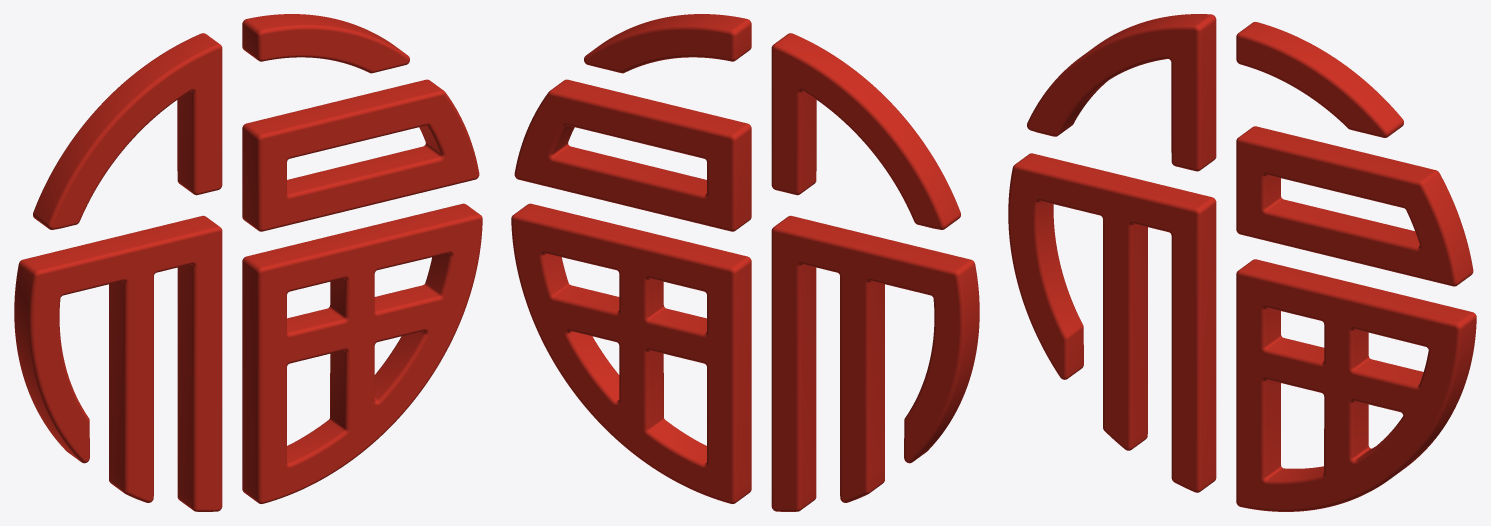
File: fu-trazo.glb
3 views of the same model, side by side, from view 1: azimuth 30°, elevation 25°; view 2: azimuth 150°, elevation 25°; view 3: azimuth 330°, elevation 25° (orthographic).
Parts seen in each view (by area): view 1: geometry_0; view 2: geometry_0; view 3: geometry_0.
Part boxes in pixels (box(x1,y1,x2,y2)): geometry_0: box(14, 14, 482, 511); geometry_0: box(511, 14, 979, 511); geometry_0: box(1008, 14, 1476, 511).
Bounding box in the file's own units: 0.9998 × 0.9996 × 0.07.
